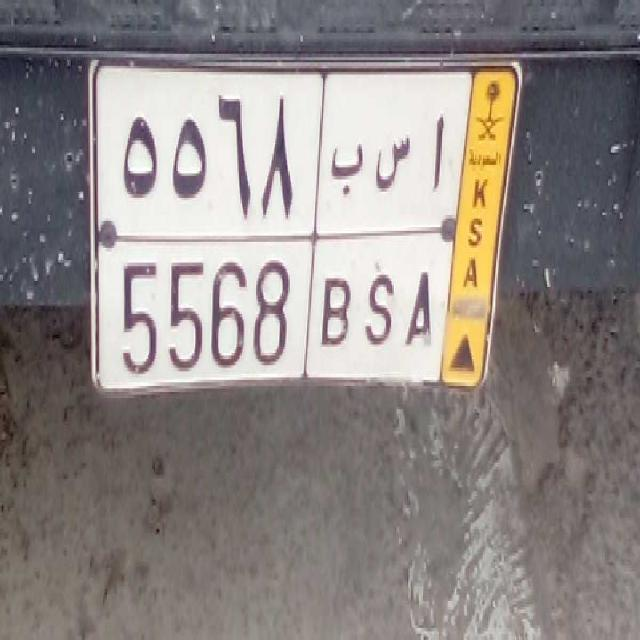license_plate: (113, 238, 440, 407)
